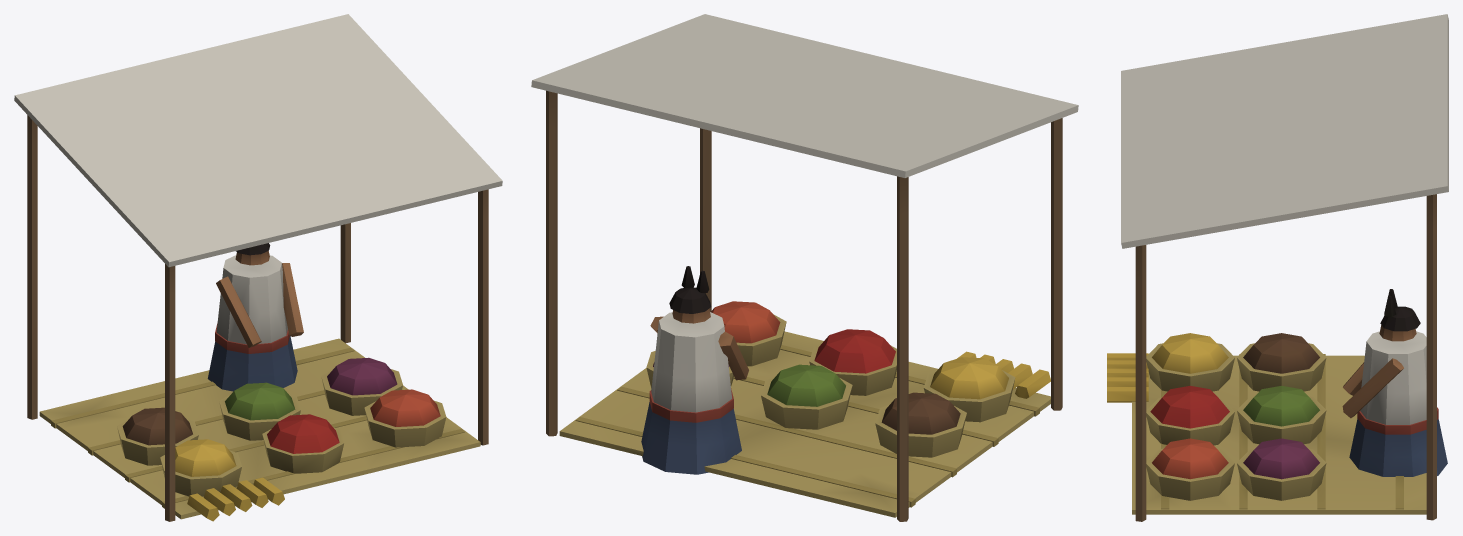
The model's file is stall-fruit.glb.
The picture shows the model from 3 angles, left to right: view 1: azimuth 30°, elevation 25°; view 2: azimuth 150°, elevation 25°; view 3: azimuth 270°, elevation 25°; orthographic projection. The views are drawn at different scales.
Parts seen in each view (by area): view 1: base; view 2: base; view 3: base.
Boxes of the visible parts, box(x1,y1,x2,y2) form: base: box(14, 14, 502, 521); base: box(531, 14, 1078, 521); base: box(1107, 14, 1448, 521).
Bounding box in the file's own units: 2.45 × 2.25 × 2.06.
